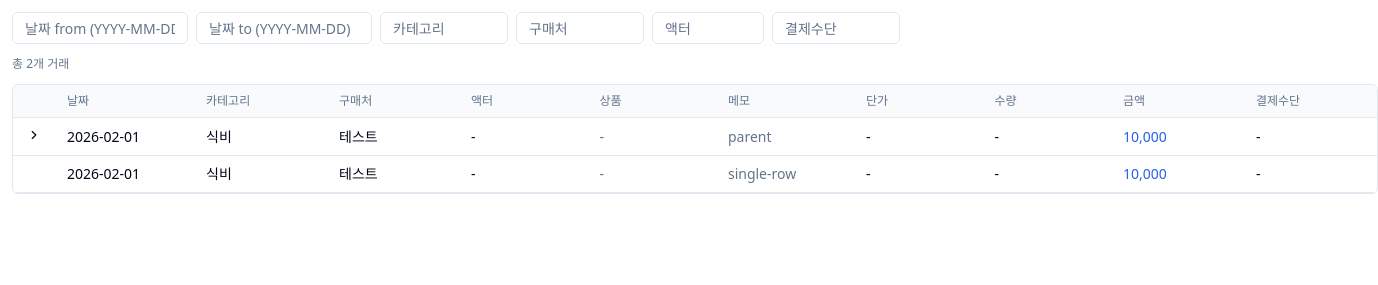
Test case: TransactionsTable expansion › expands a multi-line group when the chevron is clicked
Expected: the text "child-A" is not shown
Click the button named "펼치기" at (34, 135), box [25,126,43,144]
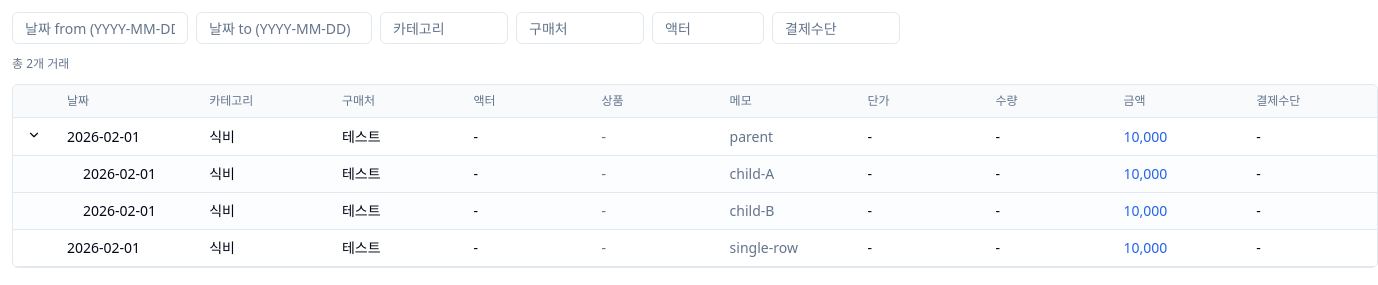
Expected: the text "child-A" is shown, [730,164,774,183]
Expected: the text "child-B" is shown, [730,201,774,220]
